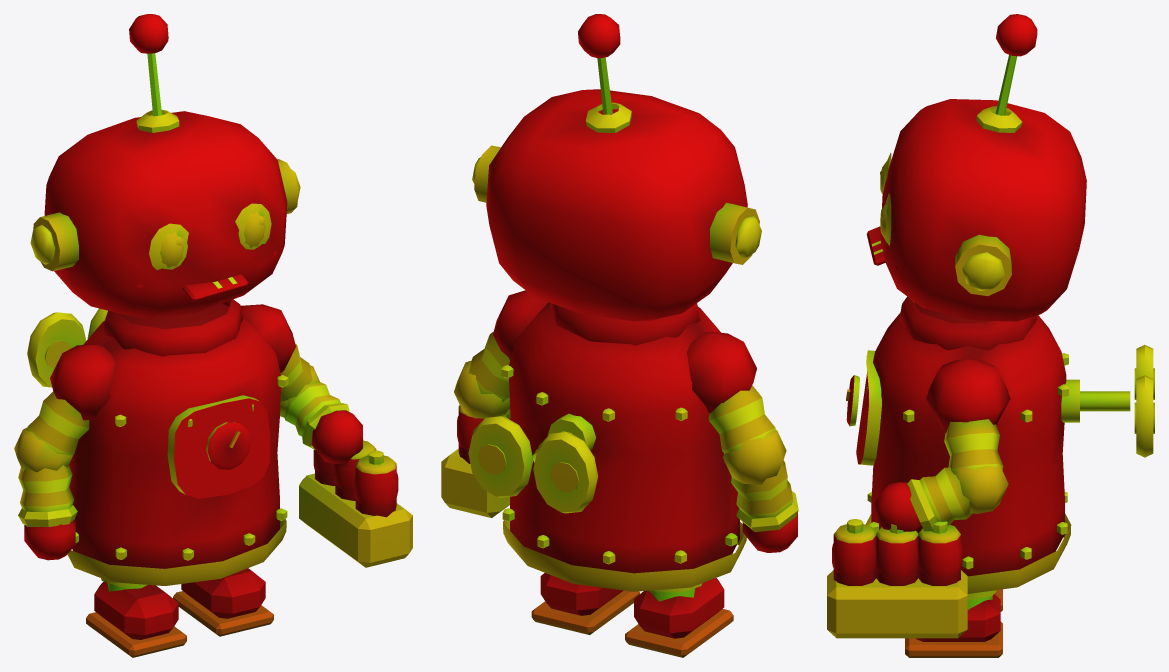
Rendered from RobotWorker_food.glb.
3 renders of one model, left to right at view 1: azimuth 30°, elevation 25°; view 2: azimuth 150°, elevation 25°; view 3: azimuth 270°, elevation 25°, orthographic. The views are drawn at different scales.
Parts seen in each view (by area): view 1: RobotWorker_food; view 2: RobotWorker_food; view 3: RobotWorker_food.
Part boxes in pixels (box(x1,y1,x2,y2)): RobotWorker_food: box(14, 14, 412, 657); RobotWorker_food: box(441, 14, 798, 657); RobotWorker_food: box(827, 14, 1154, 657).
Size of the model in its own units: 0.5487 by 0.93 by 0.455.
